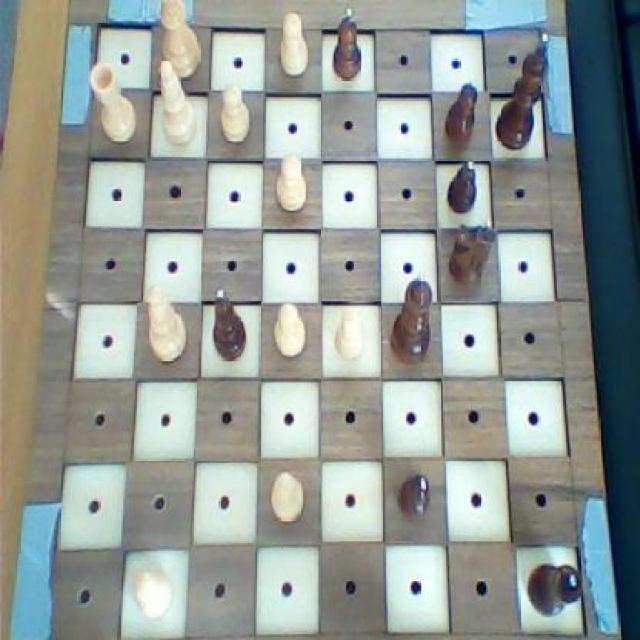bishop: (208, 284, 250, 372)
black-bishop: (492, 29, 552, 155)
black-king: (446, 215, 498, 292)
black-knight: (332, 6, 368, 86), (443, 75, 483, 147), (444, 156, 480, 217), (397, 468, 434, 524)
black-pawn: (388, 272, 434, 370)
black-queen: (524, 557, 586, 618)
black-rook: (154, 54, 200, 148), (145, 282, 190, 366)
white-bishop: (153, 0, 204, 83)
white-knight: (275, 8, 311, 84), (132, 562, 173, 624), (272, 152, 310, 217), (270, 297, 308, 361), (330, 302, 368, 363), (219, 78, 253, 146), (270, 468, 306, 528)
white-queen: (86, 57, 142, 148)
